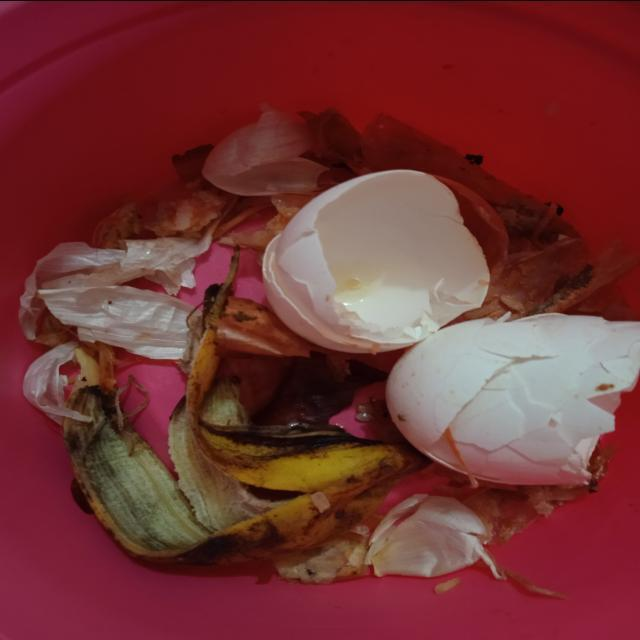egg shell: (388, 310, 640, 486), (262, 168, 488, 354)
